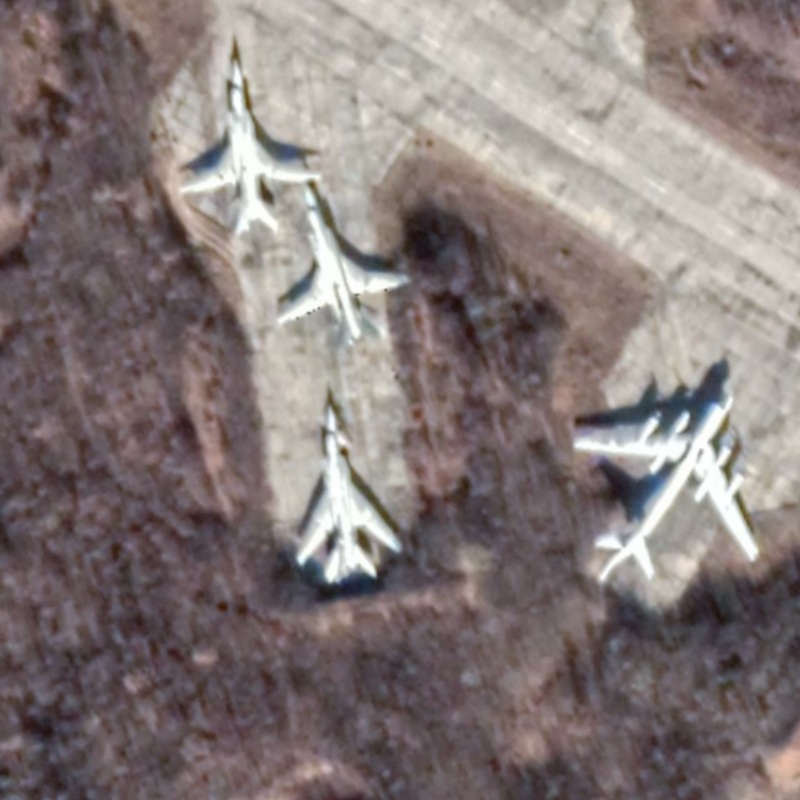A12: (172, 54, 326, 239), (273, 180, 415, 349), (290, 399, 405, 587)
A17: (567, 387, 763, 587)
